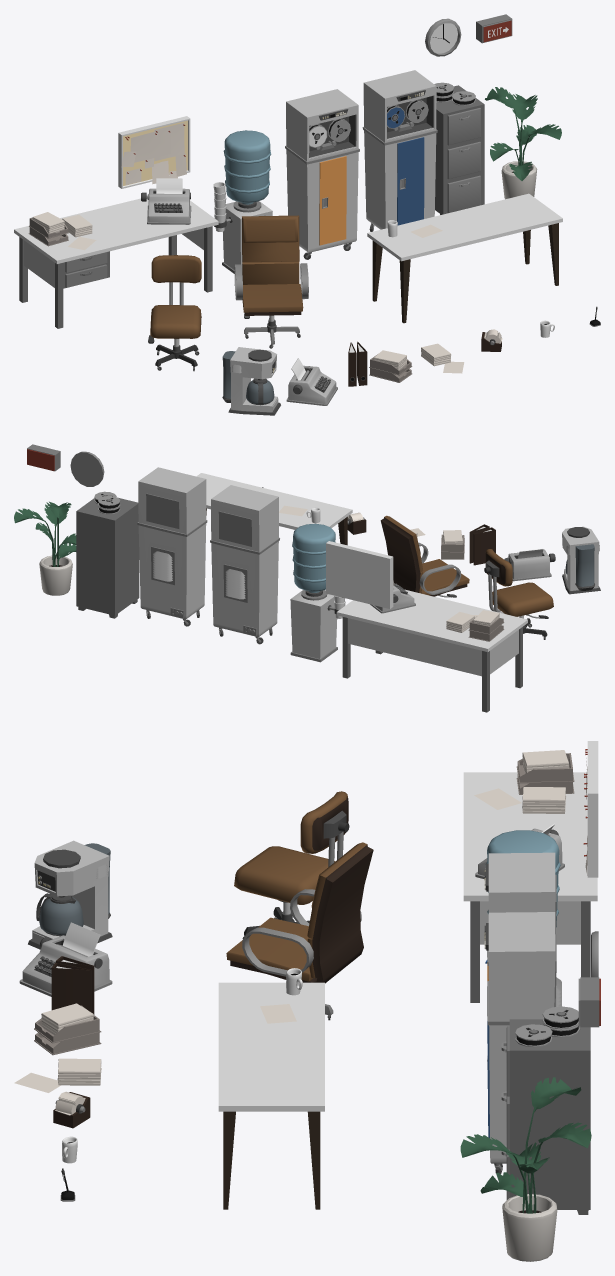
File: 60's office stuff exporter.fbx
3 views of the same model, one above another, from view 1: azimuth 30°, elevation 25°; view 2: azimuth 150°, elevation 25°; view 3: azimuth 270°, elevation 25° (orthographic). The views are drawn at different scales.
Visible parts, largest first — view 1: Cube.022, Cube.000, Cube.016, Cube.020, Cube.021, Cube.003, Cube.023, Cube.11647, Cube.004, Cube.015, Cylinder.003, Cube.007 (+3 smaller); view 2: Cube.016, Cube.000, Cube.022, Cube.003, Cube.023, Cube.11647, Cube.021, Cube.004, Cube.020, Cylinder.003, Cube.015, Cube (+6 smaller); view 3: Cube.020, Cube.003, Cube.016, Cube.021, Cube.000, Cylinder.003, Cube.015, Cube.004, Cube.022, Cube, Cube.11647, Cube.001 (+12 smaller).
Part boxes in pixels (x1,y1,x2,y2): Cube.022: (285,89,359,259); Cube.000: (362,70,437,231); Cube.016: (14,198,218,328); Cube.020: (367,193,562,323); Cube.021: (234,215,308,348); Cube.003: (435,85,484,214); Cube.023: (213,130,272,273); Cube.11647: (118,116,190,188); Cube.004: (148,255,201,371); Cube.015: (222,347,280,415); Cylinder.003: (485,87,561,199); Cube.007: (141,178,191,224); Cube.016: (336,589,527,712); Cube.000: (137,467,207,626); Cube.022: (210,485,279,644); Cube.003: (76,497,139,618); Cube.023: (290,523,345,662); Cube.11647: (326,541,394,608); Cube.021: (380,515,469,597); Cube.004: (484,549,553,639); Cube.020: (196,473,352,545); Cylinder.003: (14,501,76,595); Cube.015: (562,526,600,594); Cube: (504,548,555,581); Cube.020: (218,982,324,1209); Cube.003: (501,1019,590,1214); Cube.016: (463,772,597,1002); Cube.021: (226,842,373,1020); Cube.000: (484,912,556,1173); Cylinder.003: (460,1077,591,1261); Cube.015: (28,840,112,949); Cube.004: (234,791,349,938); Cube.022: (484,852,561,1006); Cube: (19,922,112,996); Cube.11647: (583,741,598,877); Cube.001: (51,962,91,1012).
Bounding box in the file's own units: 806 × 272 × 510.
